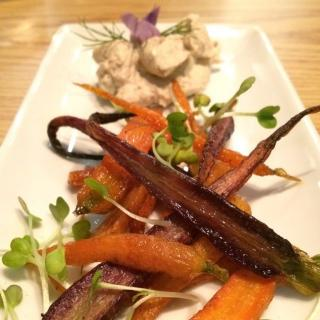Carrot: (41, 79, 320, 319), (199, 262, 290, 320)
